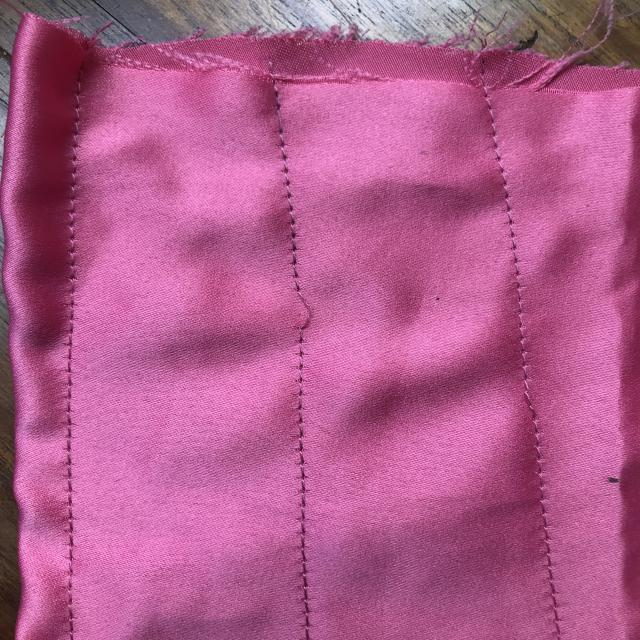skip: (274, 280, 335, 347)
